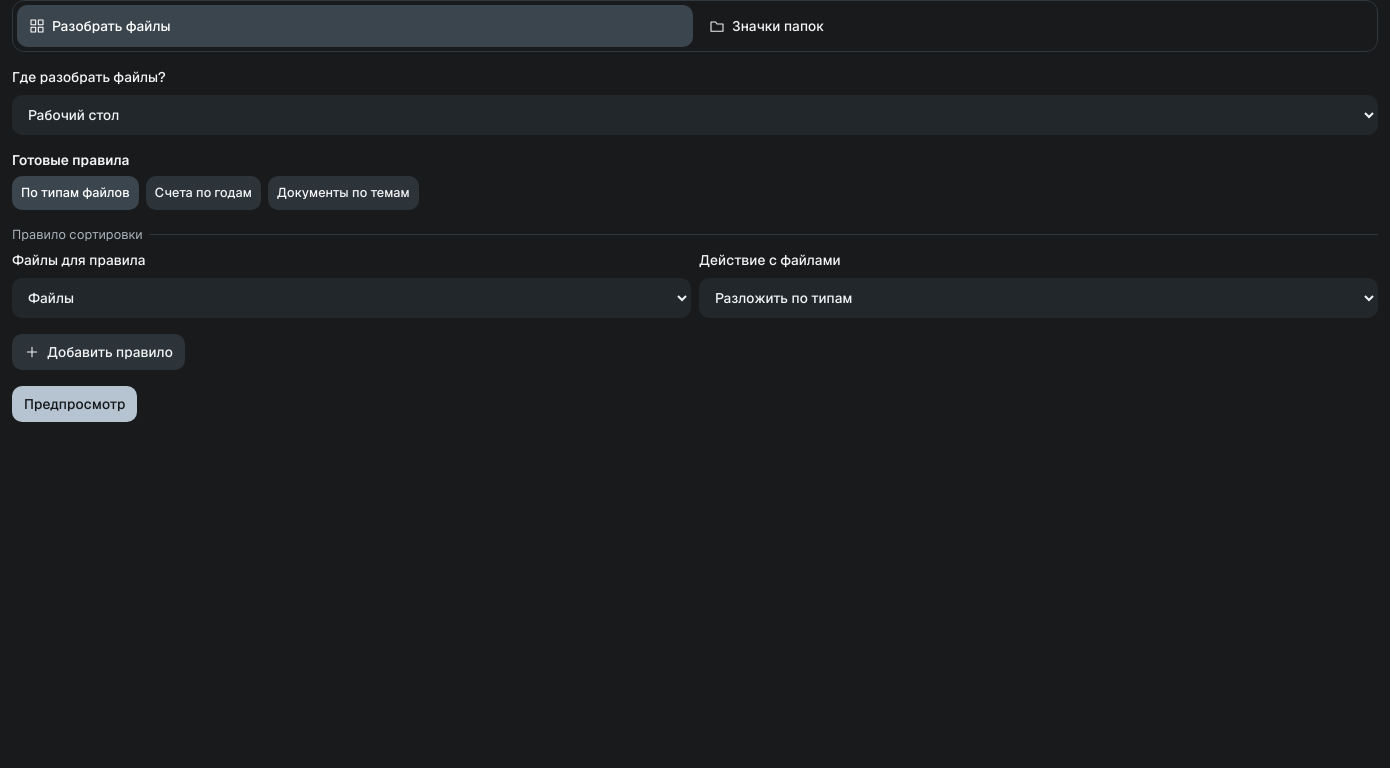
Test: opens the rule editor directly and moves files only after review
Click the button "Счета по годам": (203, 193) top-left (146, 176), bottom-right (261, 210)
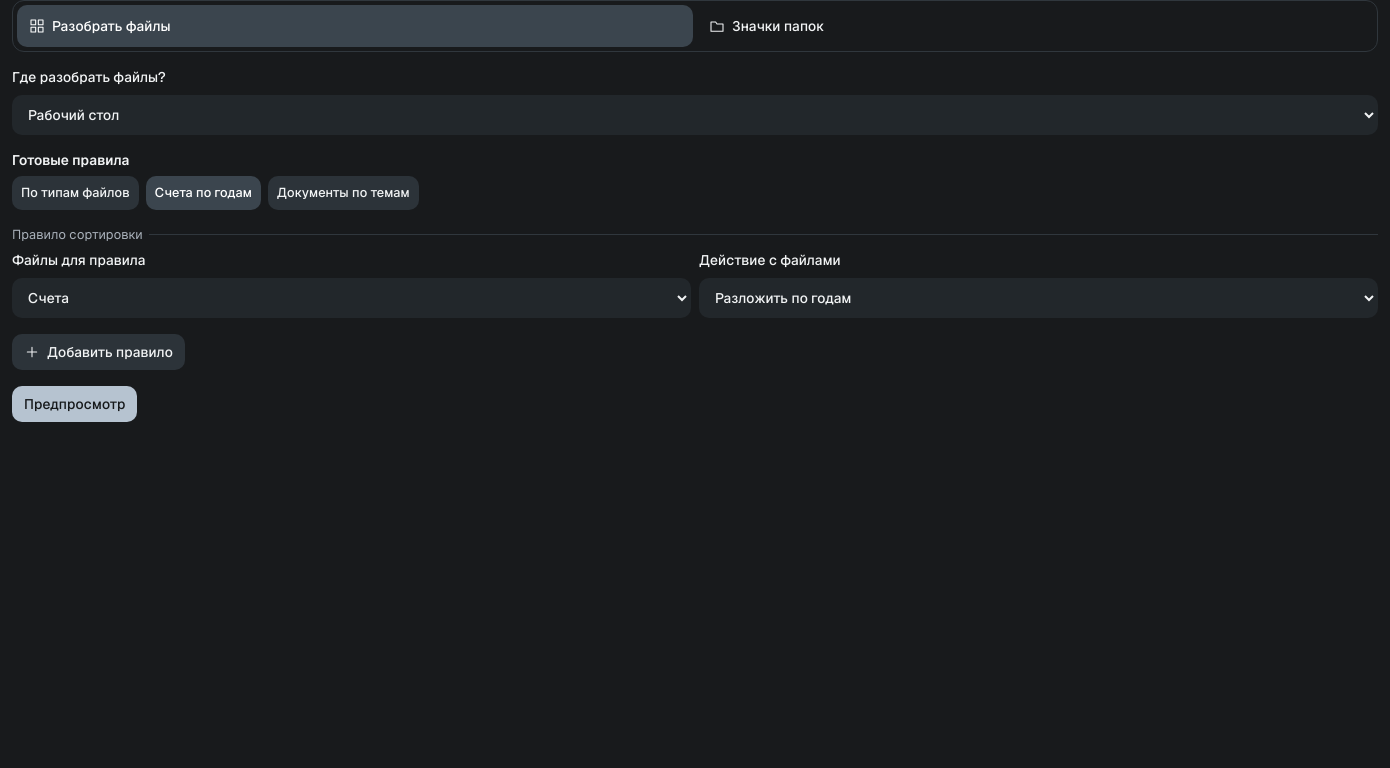
Click the button "Добавить правило": (98, 352) top-left (12, 334), bottom-right (185, 370)
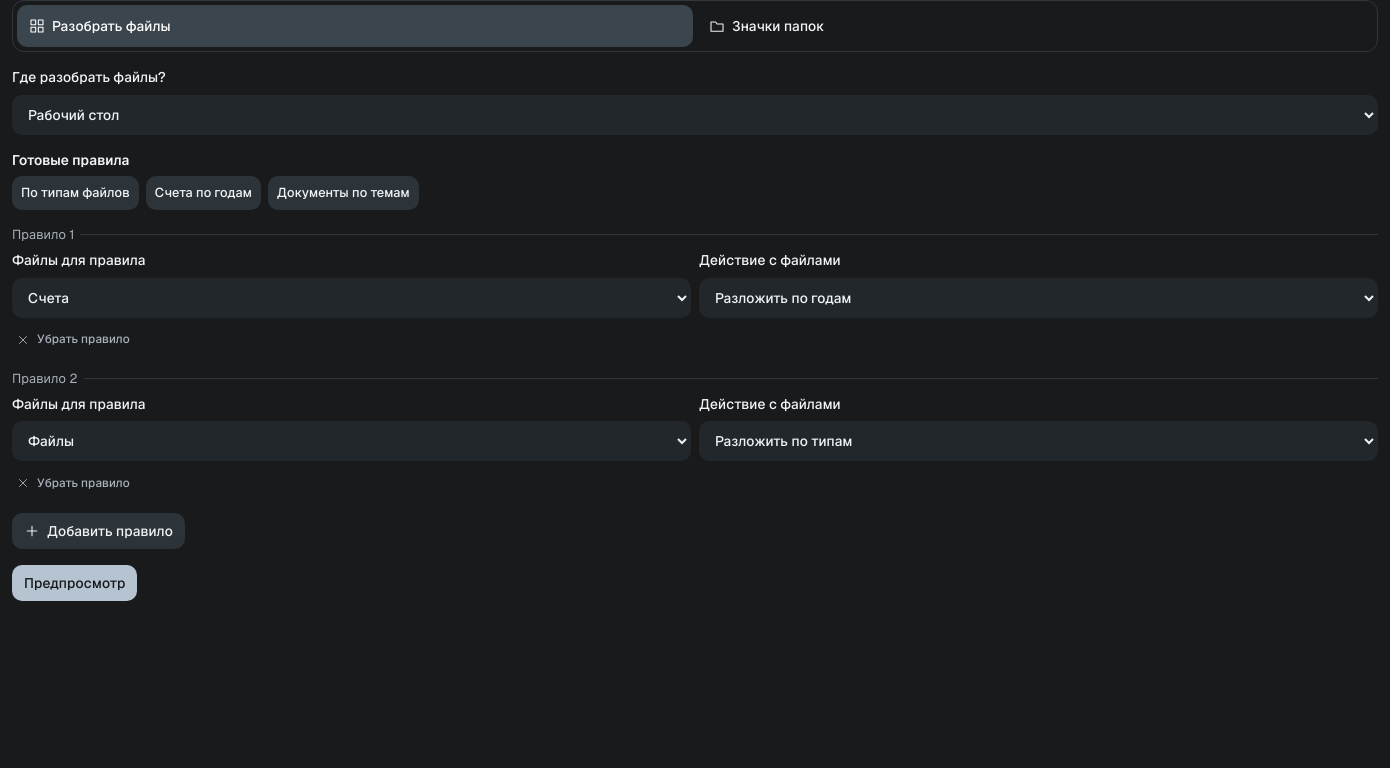
Select "Скриншоты" in the dropdown labelled "Файлы для правила" below "Правило 2": (352, 441) top-left (12, 421), bottom-right (691, 461)
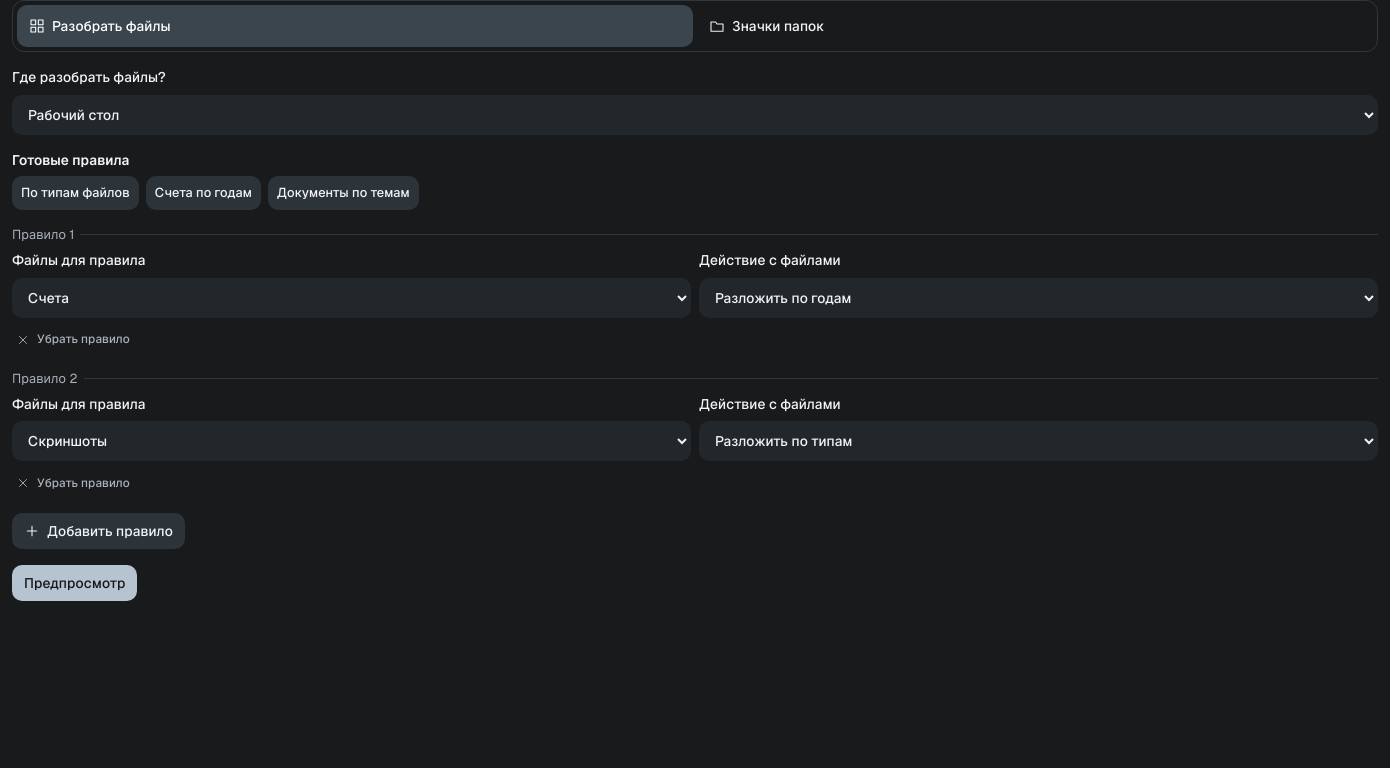
Select "Оставить на месте" in the 2nd dropdown labelled "Действие с файлами": (1038, 441) top-left (699, 421), bottom-right (1378, 461)
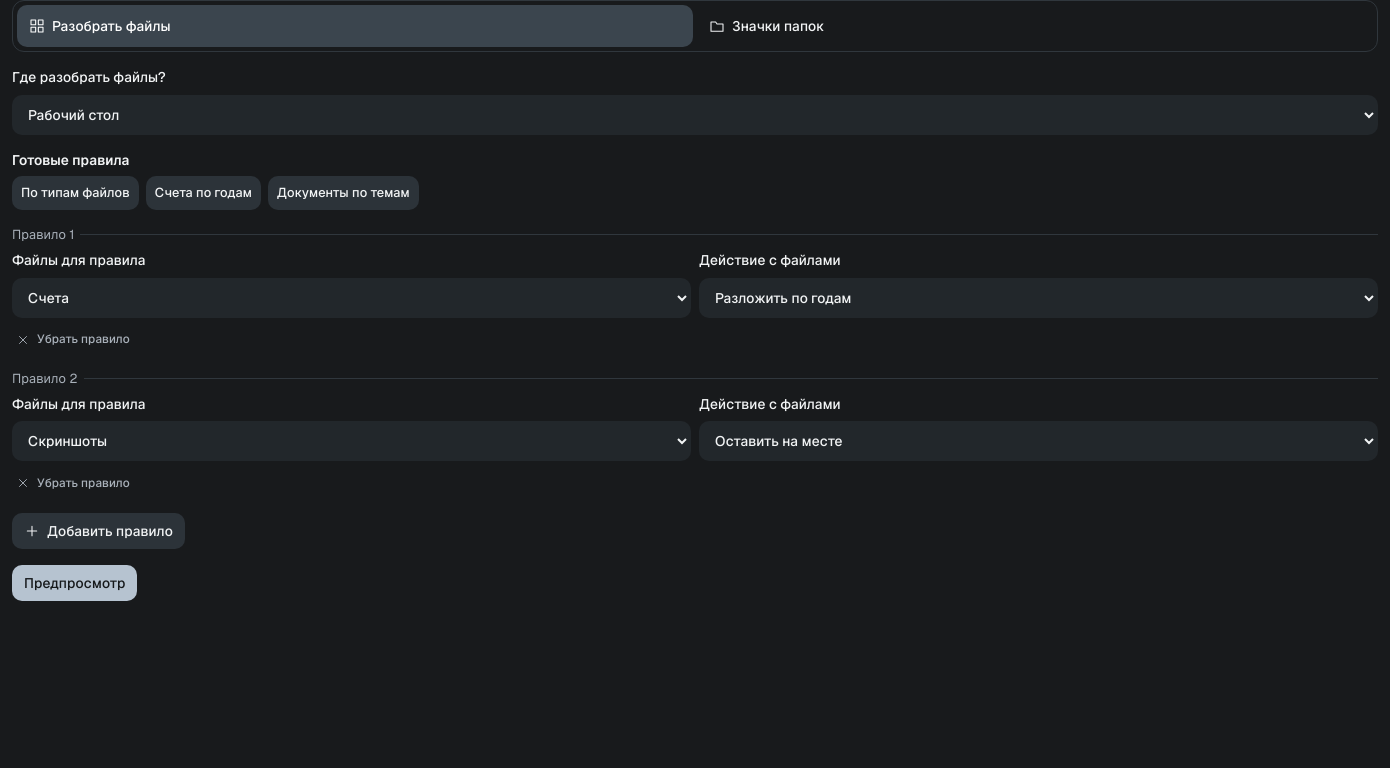
Click the button "Предпросмотр": (75, 583) top-left (12, 565), bottom-right (137, 601)
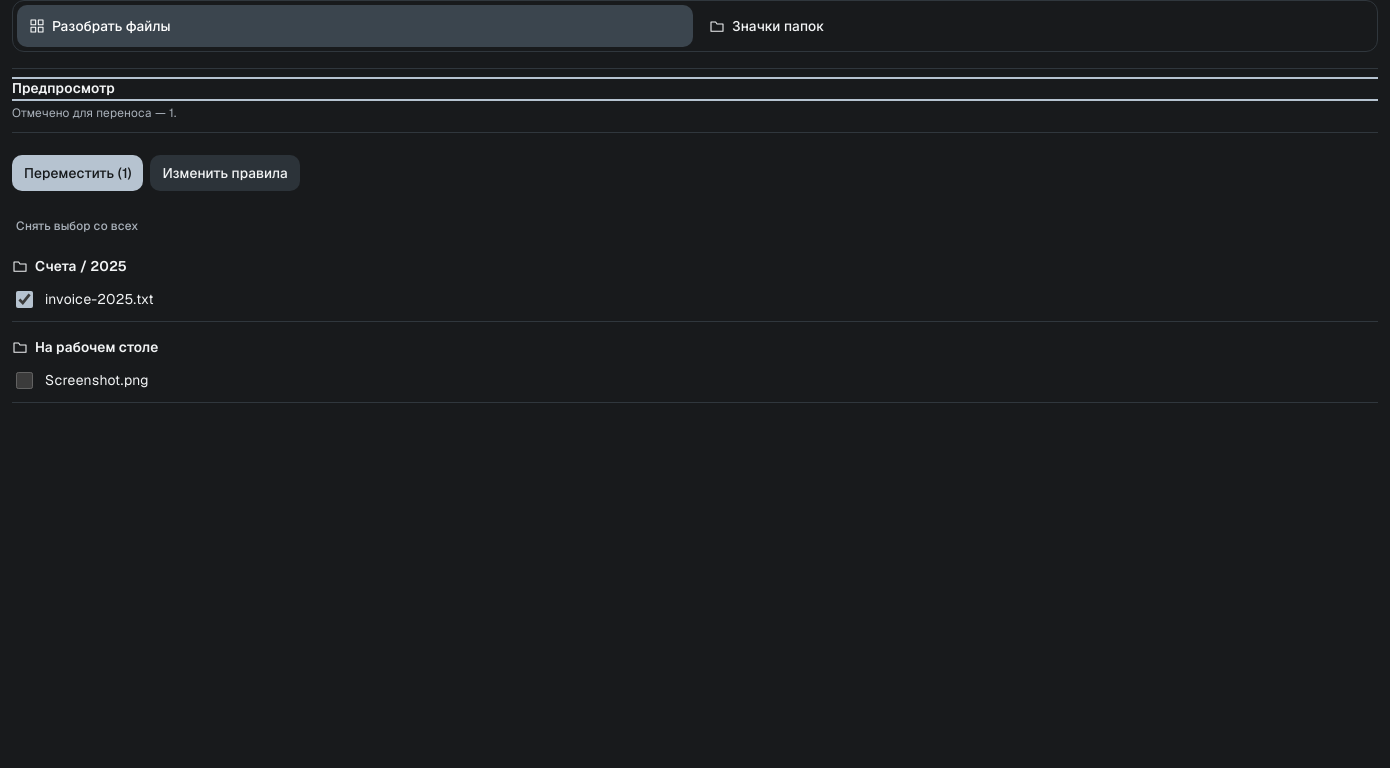
Result: the element "Счета / 2025" is shown at top-left (12, 257), bottom-right (1378, 322)
Result: the label labelled "Файлы для правила" is gone
Result: the checkbox labelled "Screenshot.png" is disabled at top-left (16, 372), bottom-right (33, 389)
Click the button "Переместить (1)": (78, 173) top-left (12, 155), bottom-right (144, 191)
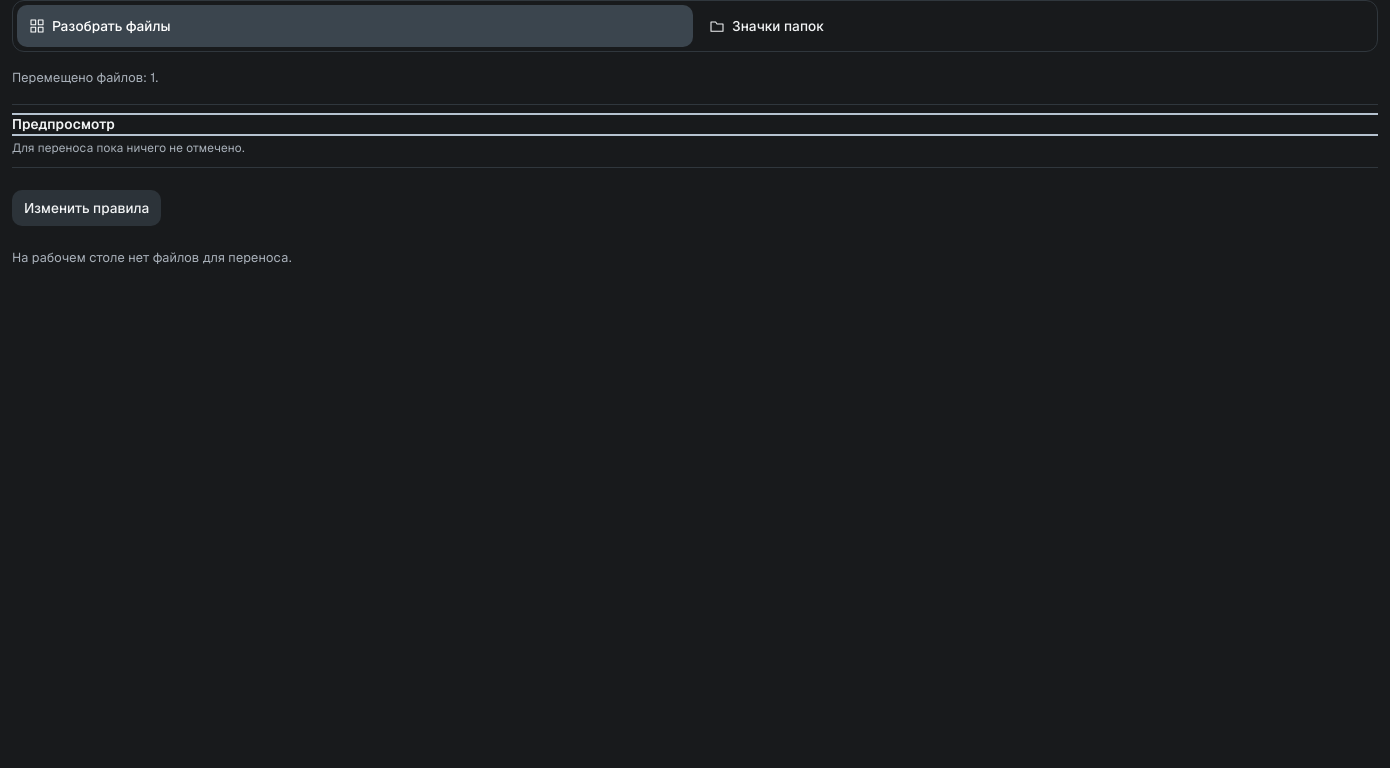
Result: the text "Перемещено файлов: 1." is shown at top-left (12, 69), bottom-right (158, 86)
